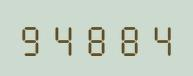eight: (80, 20, 110, 56), (111, 20, 141, 56)
four: (49, 20, 79, 56), (142, 20, 172, 56)
nine: (18, 20, 48, 56)
